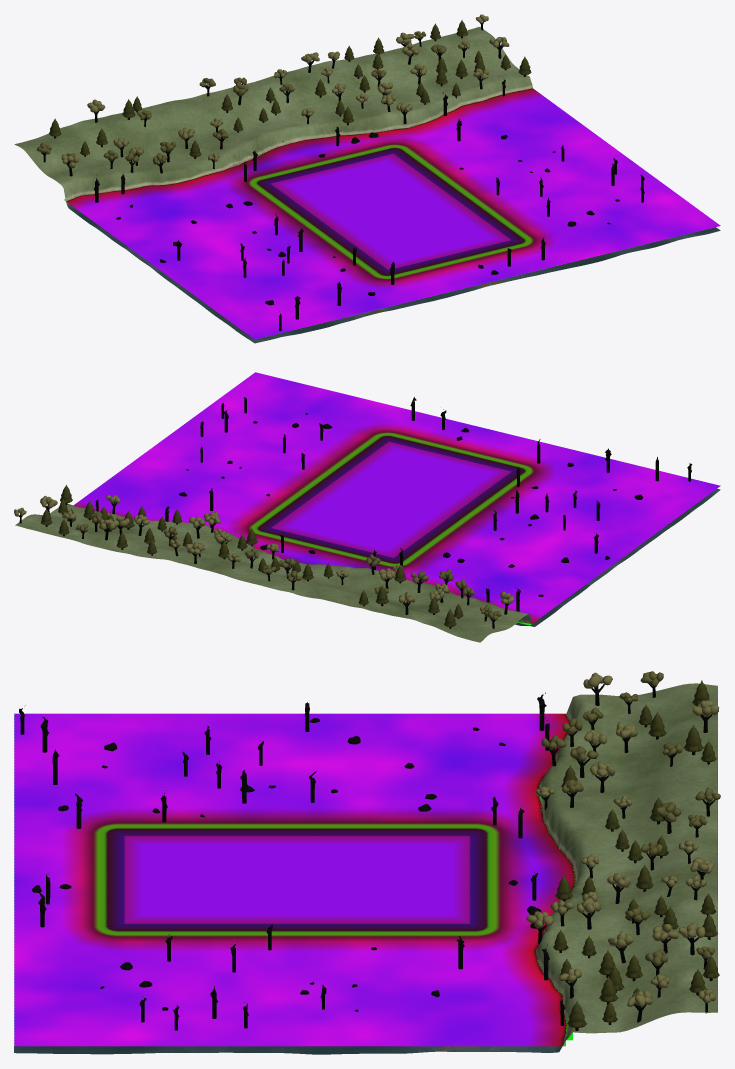
The model's file is surroundings_13x23.glb.
3 renders of one model, top to bottom at view 1: azimuth 30°, elevation 25°; view 2: azimuth 150°, elevation 25°; view 3: azimuth 270°, elevation 25°, orthographic. The views are drawn at different scales.
Visible parts, largest first — view 1: water, ground, props; view 2: water, ground, props; view 3: water, ground, props.
Part boxes in pixels (<box>): water: <box>64,88,720,339</box>; ground: <box>14,27,720,343</box>; props: <box>37,14,644,331</box>; water: <box>73,372,720,625</box>; ground: <box>15,488,720,642</box>; props: <box>14,397,692,628</box>; water: <box>14,713,575,1046</box>; ground: <box>14,683,717,1054</box>; props: <box>19,671,720,1030</box>.
Size of the model in its own units: 57.56 by 6.26 by 51.23.
4 materials, 4 textured.
